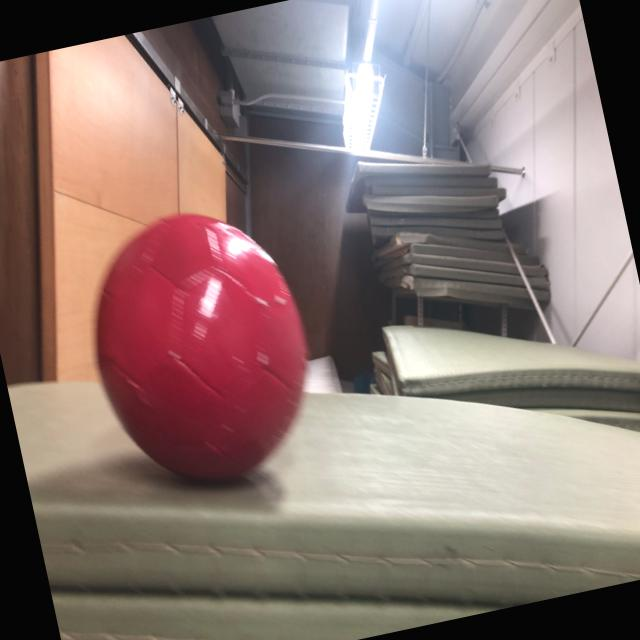red_ball: (70, 197, 332, 503)
